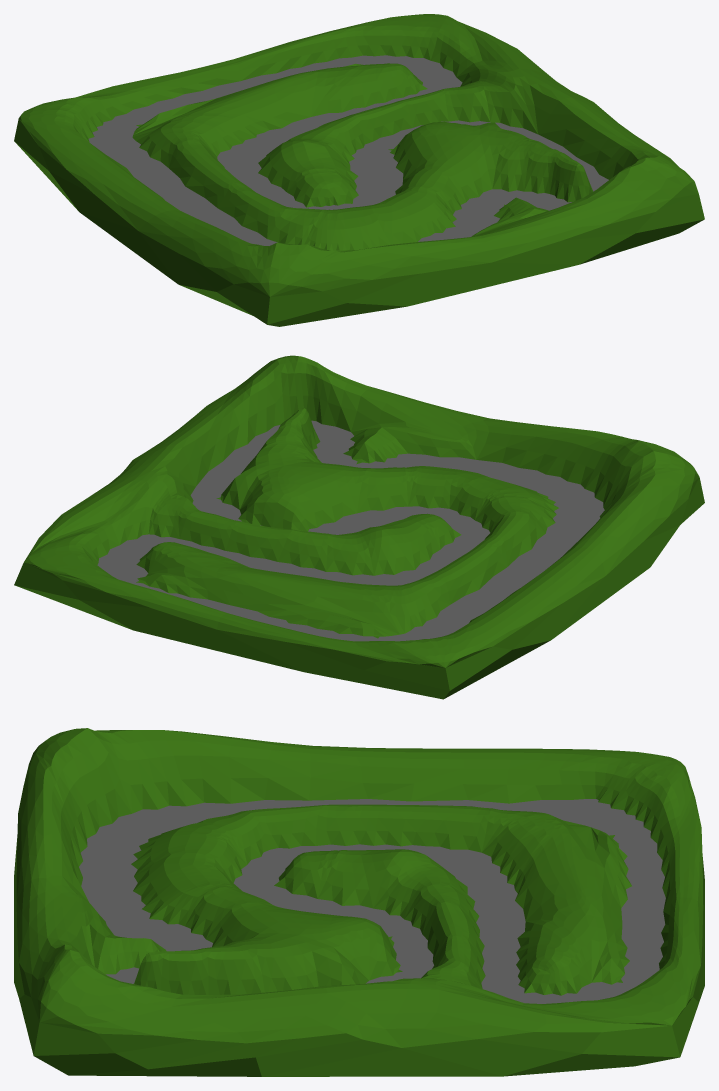
File: map.obj
The picture shows the model from 3 angles, top to bottom: view 1: azimuth 30°, elevation 25°; view 2: azimuth 150°, elevation 25°; view 3: azimuth 270°, elevation 25°; orthographic projection. The views are drawn at different scales.
Parts seen in each view (by area): view 1: Cube; view 2: Cube; view 3: Cube.
Part boxes in pixels (box(x1,y1,x2,y2)): Cube: box(14, 14, 704, 326); Cube: box(14, 355, 704, 699); Cube: box(14, 728, 704, 1076).
Size of the model in its own units: 19.85 by 3.66 by 19.89.
